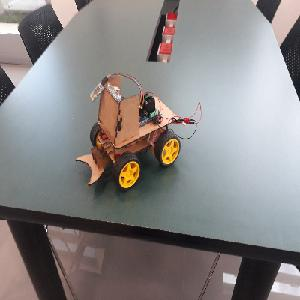Robot: (74, 72, 181, 190)
